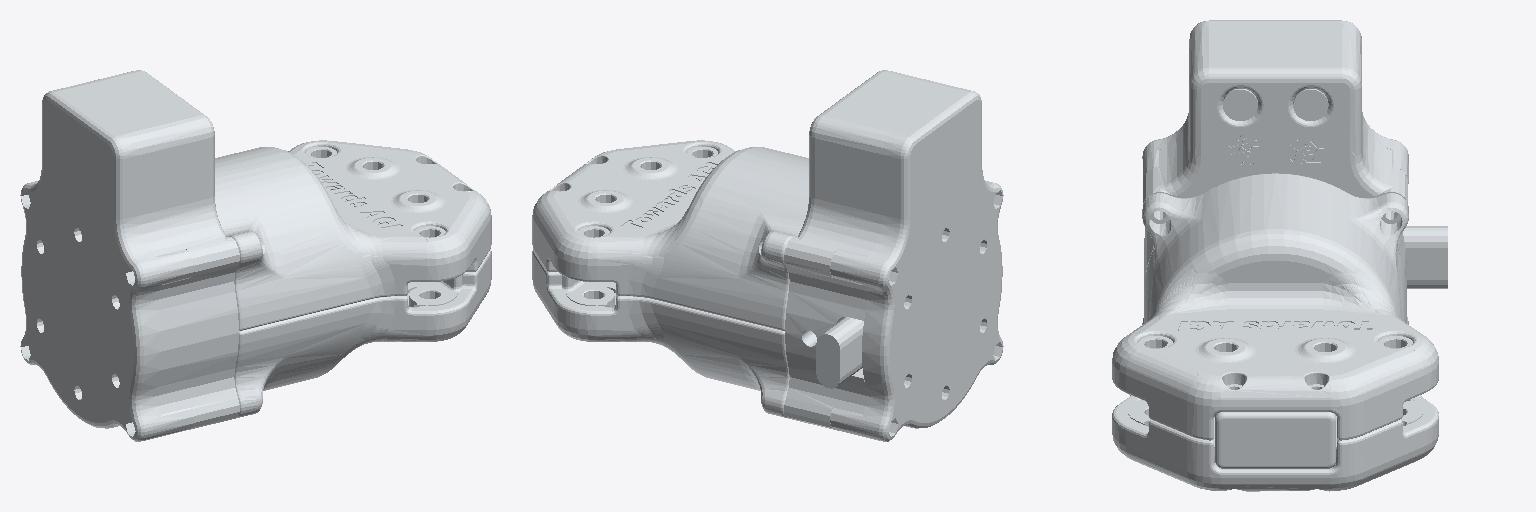
robot.urdf — TR4_torso:
<?xml version="1.0" encoding="utf-8"?>
<!-- This URDF was automatically created by SolidWorks to URDF Exporter! Originally created by [author] ([email redacted]) 
     Commit Version: 1.6.0-4-g7f85cfe  Build Version: 1.6.7995.38578
     For more information, please see http://wiki.ros.org/sw_urdf_exporter -->
<robot
  name="TR4_torso">
  <link
    name="base_link">
    <inertial>
      <origin
        xyz="-0.044044 4.1046E-05 0.35314"
        rpy="0 0 0" />
      <mass
        value="62.34" />
      <inertia
        ixx="2.4972"
        ixy="-5.136E-05"
        ixz="-0.026499"
        iyy="2.9084"
        iyz="-0.00014713"
        izz="1.479" />
    </inertial>
    <visual>
      <origin
        xyz="0 0 0"
        rpy="0 0 0" />
      <geometry>
        <mesh
          filename="../meshes/base_link.STL" />
      </geometry>
      <material
        name="">
        <color
          rgba="0.89412 0.91373 0.92941 1" />
      </material>
    </visual>
    <collision>
      <origin
        xyz="0 0 0"
        rpy="0 0 0" />
      <geometry>
        <mesh
          filename="../meshes/base_link.STL" />
      </geometry>
    </collision>
  </link>
  <link
    name="torso">
    <inertial>
      <origin
        xyz="0.00027401 -0.14991 0.91143"
        rpy="0 0 0" />
      <mass
        value="3.3193" />
      <inertia
        ixx="0.016893"
        ixy="-1.2784E-05"
        ixz="-7.5907E-05"
        iyy="0.026595"
        iyz="-0.0010839"
        izz="0.018448" />
    </inertial>
    <visual>
      <origin
        xyz="0 0 0"
        rpy="0 0 0" />
      <geometry>
        <mesh
          filename="../meshes/torso.STL" />
      </geometry>
      <material
        name="">
        <color
          rgba="0.43922 0.43922 0.43922 1" />
      </material>
    </visual>
    <collision>
      <origin
        xyz="0 0 0"
        rpy="0 0 0" />
      <geometry>
        <mesh
          filename="../meshes/torso.STL" />
      </geometry>
    </collision>
  </link>
  <joint
    name="elevating_joint"
    type="prismatic">
    <origin
      xyz="-0.11205 -0.00063586 0.39566"
      rpy="0 0 1.5708" />
    <parent
      link="base_link" />
    <child
      link="torso" />
    <axis
      xyz="0 0 1" />
    <limit
      lower="0"
      upper="0"
      effort="0"
      velocity="0" />
  </joint>
</robot>

--- What the picture shows (computed from the rendered views, not written in the file) ---
The picture shows the robot from 3 angles, left to right: view 1: azimuth 30°, elevation 25°; view 2: azimuth 150°, elevation 25°; view 3: azimuth 270°, elevation 25°; orthographic projection.
Robot: TR4_torso — 2 links, 1 joints (1 prismatic); root link base_link; default pose: all joints at 0.
Visible links, largest first — view 1: base_link; view 2: base_link; view 3: base_link.
Link boxes in pixels (x1=…): base_link: x1=20, y1=70, x2=491, y2=441; base_link: x1=532, y1=70, x2=1003, y2=441; base_link: x1=1112, y1=20, x2=1447, y2=491.
Size in the robot's own frame: 0.1245 by 0.0858 by 0.095 metres.
Meshes: 2 distinct files referenced, 1 mesh visuals loaded (1 binary STL); not drawn: 1 (reference not matched to a file when rendering).